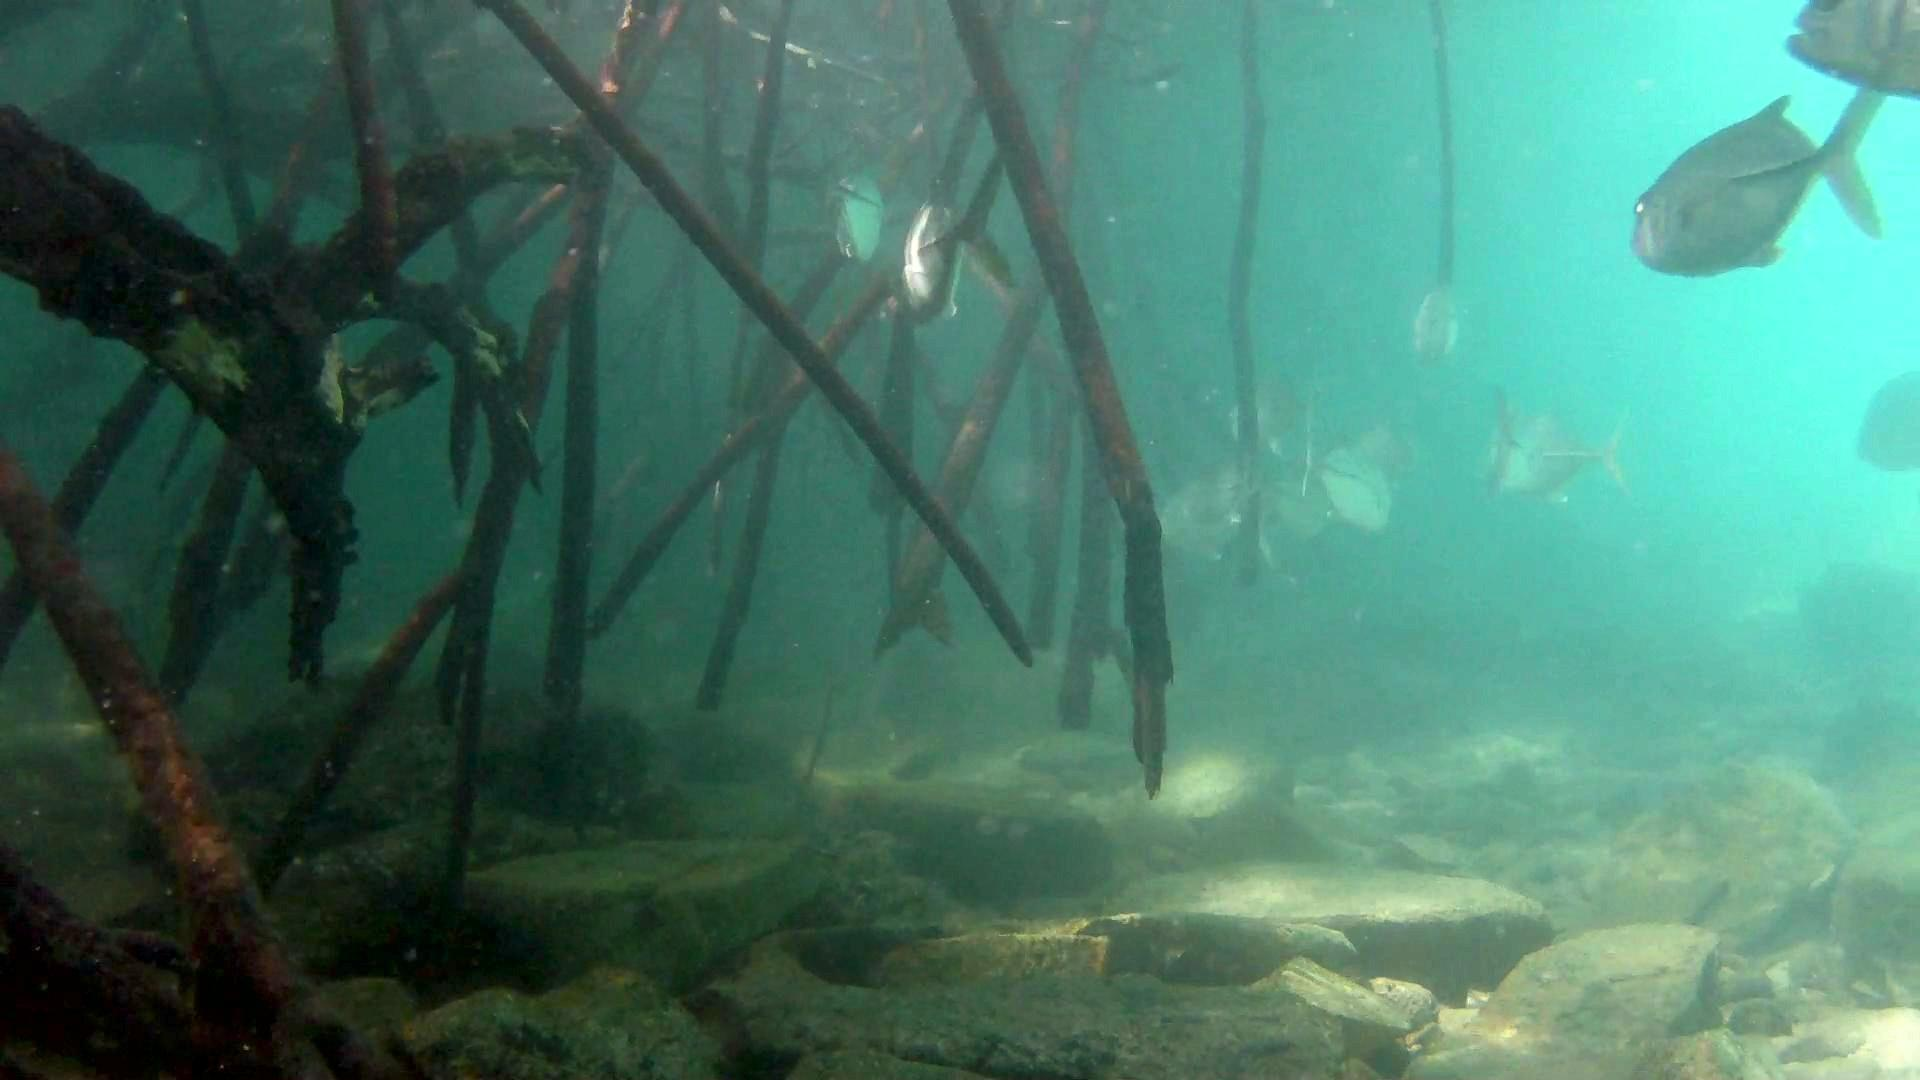caranx: (1626, 80, 1893, 285), (892, 148, 1023, 328), (1776, 0, 1920, 104)
